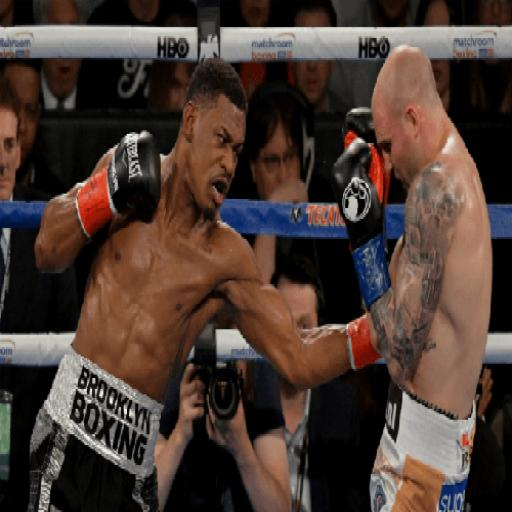boxing: (27, 48, 383, 512)
